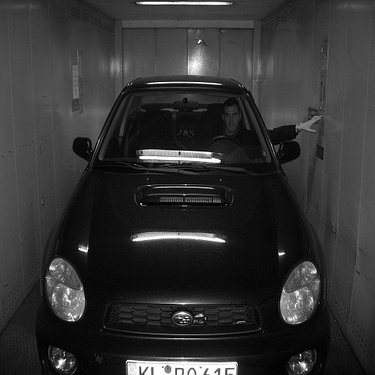car: (35, 67, 336, 373)
